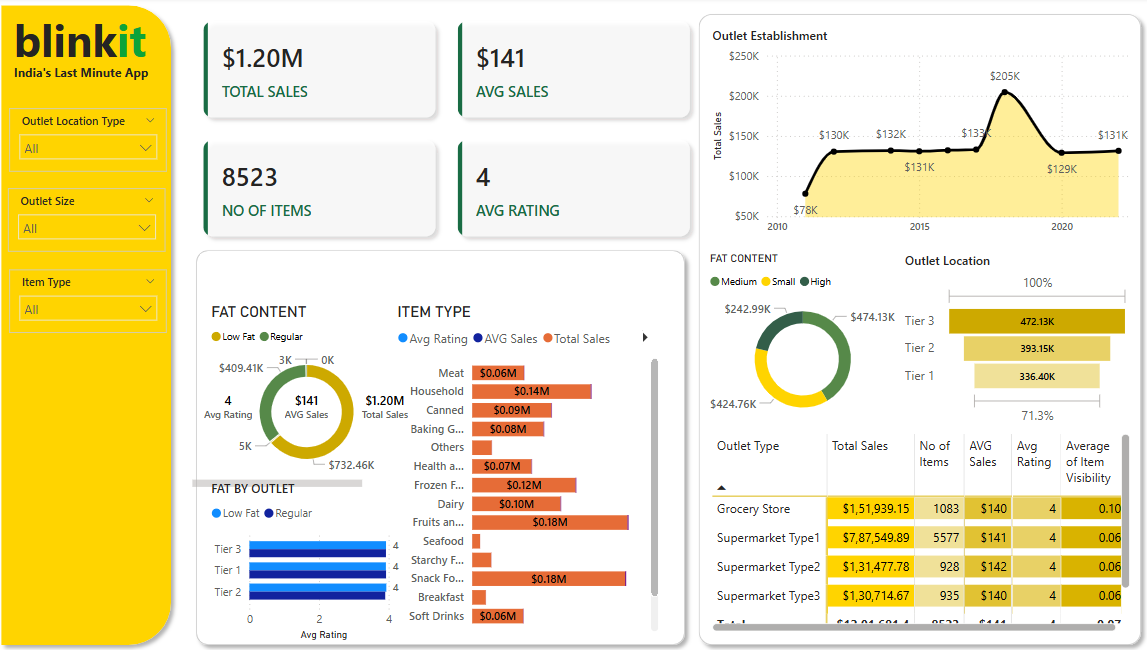

This screenshot's page, from the dashboard's own definition file:
{"tool":"powerbi","page":{"name":"Page 1","canvas":[1280,720],"ordinal":0},"visuals":[{"type":"shape","box":[0,0,204.5,720.4],"z":0},{"type":"textbox","box":[17.8,9.6,196.2,89.2],"z":1000},{"type":"textbox","box":[17.8,68.6,196.2,89.2],"z":2000},{"type":"cardVisual","fields":{"Data":["BlinkIT Grocery Data.Total Sales","BlinkIT Grocery Data.AVG Sales","BlinkIT Grocery Data.No of Items","BlinkIT Grocery Data.Avg Rating"]},"box":[214.1,9.6,569.5,270.3],"z":3000},{"type":"shape","box":[214.1,269,554.4,451.5],"z":4000},{"type":"donutChart","title":"FAT CONTENT","fields":{"Y":["BlinkIT Grocery Data.Avg Rating","BlinkIT Grocery Data.AVG Sales","BlinkIT Grocery Data.Total Sales","BlinkIT Grocery Data.No of Items"],"Category":["BlinkIT Grocery Data.Item Fat Content"]},"box":[234.6,334.8,219.6,194.9],"z":5000},{"type":"cardVisual","fields":{"Data":["BlinkIT Grocery Data.Avg Rating","BlinkIT Grocery Data.AVG Sales","BlinkIT Grocery Data.Total Sales","BlinkIT Grocery Data.No of Items"]},"box":[213.8,365,260,180],"z":6000},{"type":"clusteredBarChart","title":"FAT BY OUTLET","fields":{"Y":["BlinkIT Grocery Data.Avg Rating"],"Category":["BlinkIT Grocery Data.Outlet Location Type"],"Series":["BlinkIT Grocery Data.Item Fat Content"]},"box":[234.6,529.7,219.6,181.1],"z":7000},{"type":"barChart","title":"ITEM TYPE","fields":{"Y":["BlinkIT Grocery Data.Avg Rating","BlinkIT Grocery Data.AVG Sales","BlinkIT Grocery Data.Total Sales","BlinkIT Grocery Data.No of Items"],"Category":["BlinkIT Grocery Data.Item Type"]},"box":[439.1,334.8,296.4,366.4],"z":8000},{"type":"shape","box":[765.7,9.6,503.6,710.8],"z":9000},{"type":"lineChart","title":"Outlet Establishment","fields":{"Y":["BlinkIT Grocery Data.Total Sales"],"Category":["BlinkIT Grocery Data.Outlet Establishment Year"]},"box":[784.9,32.9,467.9,236],"z":10000},{"type":"donutChart","title":"FAT CONTENT","fields":{"Y":["BlinkIT Grocery Data.Total Sales"],"Category":["BlinkIT Grocery Data.Outlet Size"]},"box":[782.2,279.9,214.1,194.9],"z":11000},{"type":"funnel","title":"Outlet Location","fields":{"Y":["Sum(BlinkIT Grocery Data.Sales)"],"Category":["BlinkIT Grocery Data.Outlet Location Type"]},"box":[996.2,279.9,256.6,194.9],"z":12000},{"type":"pivotTable","fields":{"Values":["BlinkIT Grocery Data.Total Sales","BlinkIT Grocery Data.No of Items","BlinkIT Grocery Data.AVG Sales","BlinkIT Grocery Data.Avg Rating","Avg(BlinkIT Grocery Data.Item Visibility)"],"Rows":["BlinkIT Grocery Data.Outlet Type"]},"box":[784.9,474.8,467.9,226.4],"z":13000},{"type":"slicer","fields":{"Values":["BlinkIT Grocery Data.Outlet Location Type"]},"box":[17.8,122.1,172.9,70],"z":14000},{"type":"slicer","fields":{"Values":["BlinkIT Grocery Data.Outlet Size"]},"box":[16.5,209.9,172.9,70],"z":15000},{"type":"slicer","fields":{"Values":["BlinkIT Grocery Data.Item Type"]},"box":[17.8,299.1,172.9,70],"z":16000}]}

Visuals, with their boxes in screenshot pixels (x1, y1, x2, y2), scaled from the page's 1280x720 canvas onto the 1147x650 screenshot:
shape: rect(0, 0, 183, 649)
textbox: rect(16, 9, 192, 89)
textbox: rect(16, 62, 192, 142)
cardVisual - BlinkIT Grocery Data.Total Sales x BlinkIT Grocery Data.AVG Sales: rect(192, 9, 702, 253)
shape: rect(192, 243, 689, 649)
"FAT CONTENT" donutChart: rect(210, 302, 407, 478)
cardVisual - BlinkIT Grocery Data.Avg Rating x BlinkIT Grocery Data.AVG Sales: rect(192, 330, 425, 492)
"FAT BY OUTLET" clusteredBarChart: rect(210, 478, 407, 642)
"ITEM TYPE" barChart: rect(393, 302, 659, 633)
shape: rect(686, 9, 1137, 649)
"Outlet Establishment" lineChart: rect(703, 30, 1123, 243)
"FAT CONTENT" donutChart: rect(701, 253, 893, 429)
"Outlet Location" funnel: rect(893, 253, 1123, 429)
pivotTable - BlinkIT Grocery Data.Total Sales x BlinkIT Grocery Data.No of Items: rect(703, 429, 1123, 633)
slicer - BlinkIT Grocery Data.Outlet Location Type: rect(16, 110, 171, 173)
slicer - BlinkIT Grocery Data.Outlet Size: rect(15, 189, 170, 253)
slicer - BlinkIT Grocery Data.Item Type: rect(16, 270, 171, 333)
